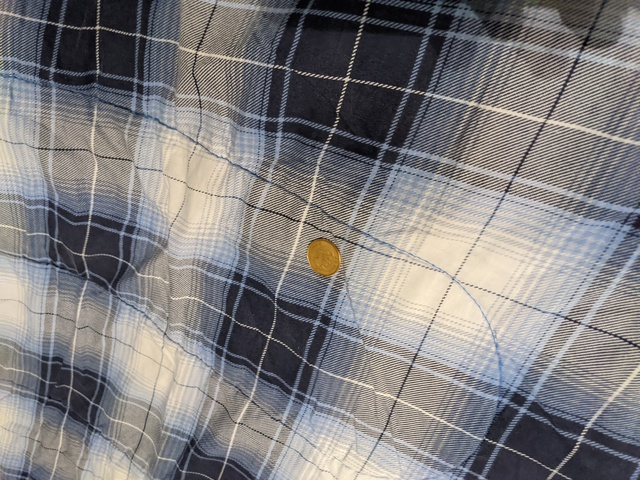loonie: (301, 231, 347, 283)
